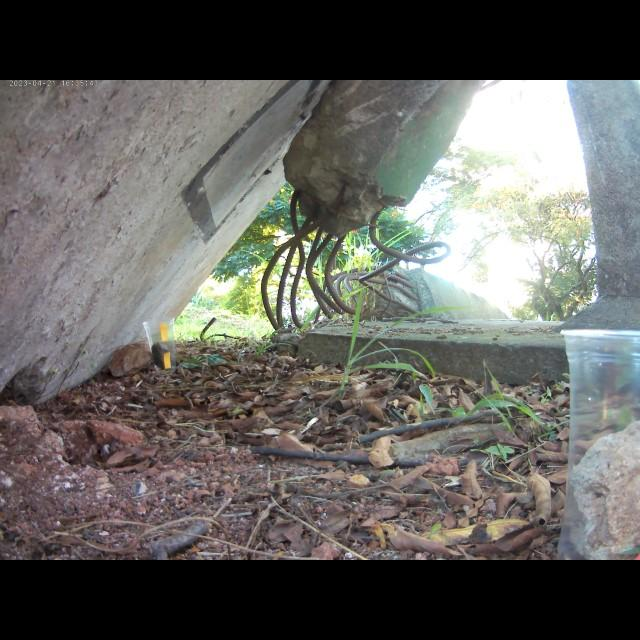detrito: (0, 80, 363, 431), (270, 81, 640, 391), (278, 80, 491, 251)
